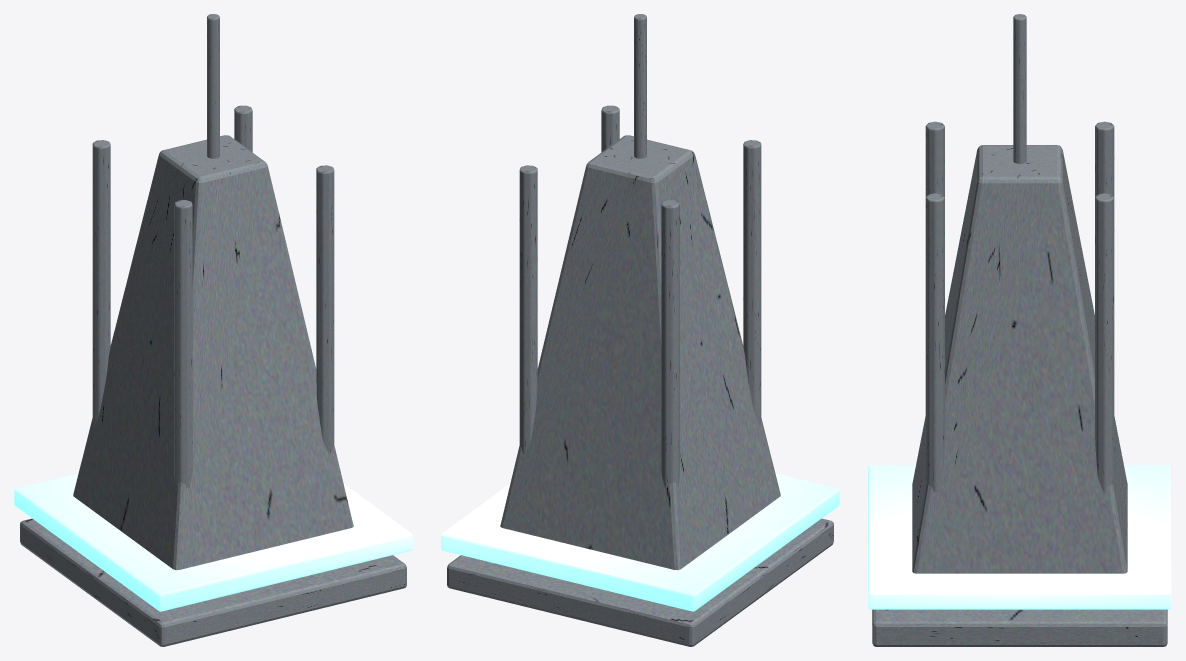
The model's file is tower_spire.glb.
3 renders of one model, left to right at view 1: azimuth 30°, elevation 25°; view 2: azimuth 150°, elevation 25°; view 3: azimuth 270°, elevation 25°, orthographic. The views are drawn at different scales.
Visible parts, largest first — view 1: SpireShaft, SpireEnergyRing, SpireRing, SpireStrut1, SpireStrut0, SpireStrut2, SpireAntenna, SpireStrut3; view 2: SpireShaft, SpireEnergyRing, SpireRing, SpireStrut2, SpireStrut3, SpireStrut1, SpireAntenna, SpireStrut0; view 3: SpireShaft, SpireEnergyRing, SpireRing, SpireStrut0, SpireStrut3, SpireAntenna, SpireStrut1, SpireStrut2.
Part boxes in pixels (left/top/right/bottom): SpireShaft: left=73, top=135, right=353, bottom=570; SpireEnergyRing: left=14, top=473, right=412, bottom=611; SpireRing: left=20, top=518, right=406, bottom=646; SpireStrut1: left=174, top=200, right=192, bottom=488; SpireStrut0: left=316, top=165, right=334, bottom=453; SpireStrut2: left=92, top=140, right=110, bottom=427; SpireAntenna: left=207, top=14, right=219, bottom=158; SpireStrut3: left=234, top=105, right=252, bottom=152; SpireShaft: left=500, top=135, right=780, bottom=570; SpireEnergyRing: left=441, top=473, right=839, bottom=611; SpireRing: left=447, top=518, right=833, bottom=646; SpireStrut2: left=661, top=200, right=679, bottom=488; SpireStrut3: left=519, top=165, right=537, bottom=453; SpireStrut1: left=743, top=140, right=761, bottom=427; SpireAntenna: left=634, top=14, right=646, bottom=158; SpireStrut0: left=601, top=105, right=619, bottom=152; SpireShaft: left=912, top=145, right=1127, bottom=573; SpireEnergyRing: left=868, top=465, right=1171, bottom=609; SpireRing: left=872, top=609, right=1167, bottom=646; SpireStrut0: left=925, top=193, right=944, bottom=492; SpireStrut3: left=1095, top=193, right=1114, bottom=492; SpireAntenna: left=1013, top=14, right=1026, bottom=163; SpireStrut1: left=925, top=121, right=944, bottom=197; SpireStrut2: left=1095, top=121, right=1114, bottom=197.
Bounding box in the file's own units: 7.6 × 16 × 7.6.
2 materials, 2 textured.
